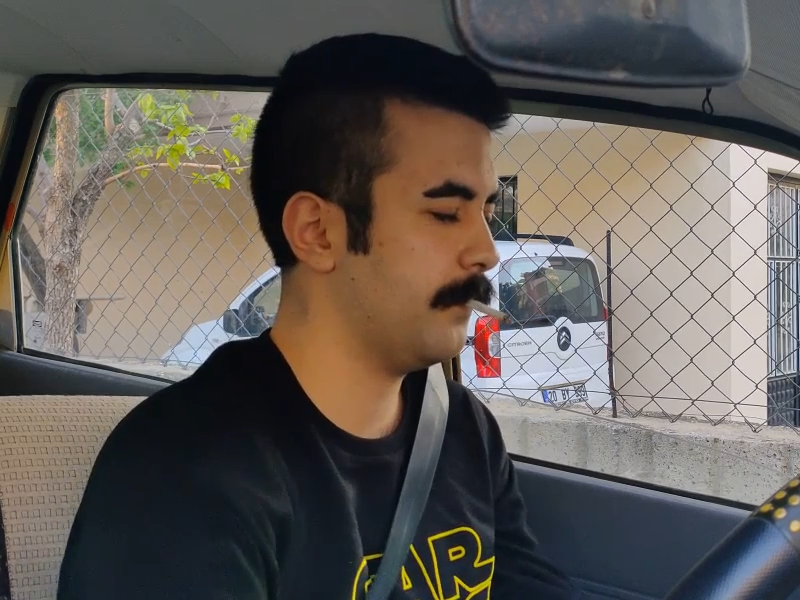sigara: (460, 294, 515, 328)
